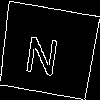N: (23, 25, 62, 77)
